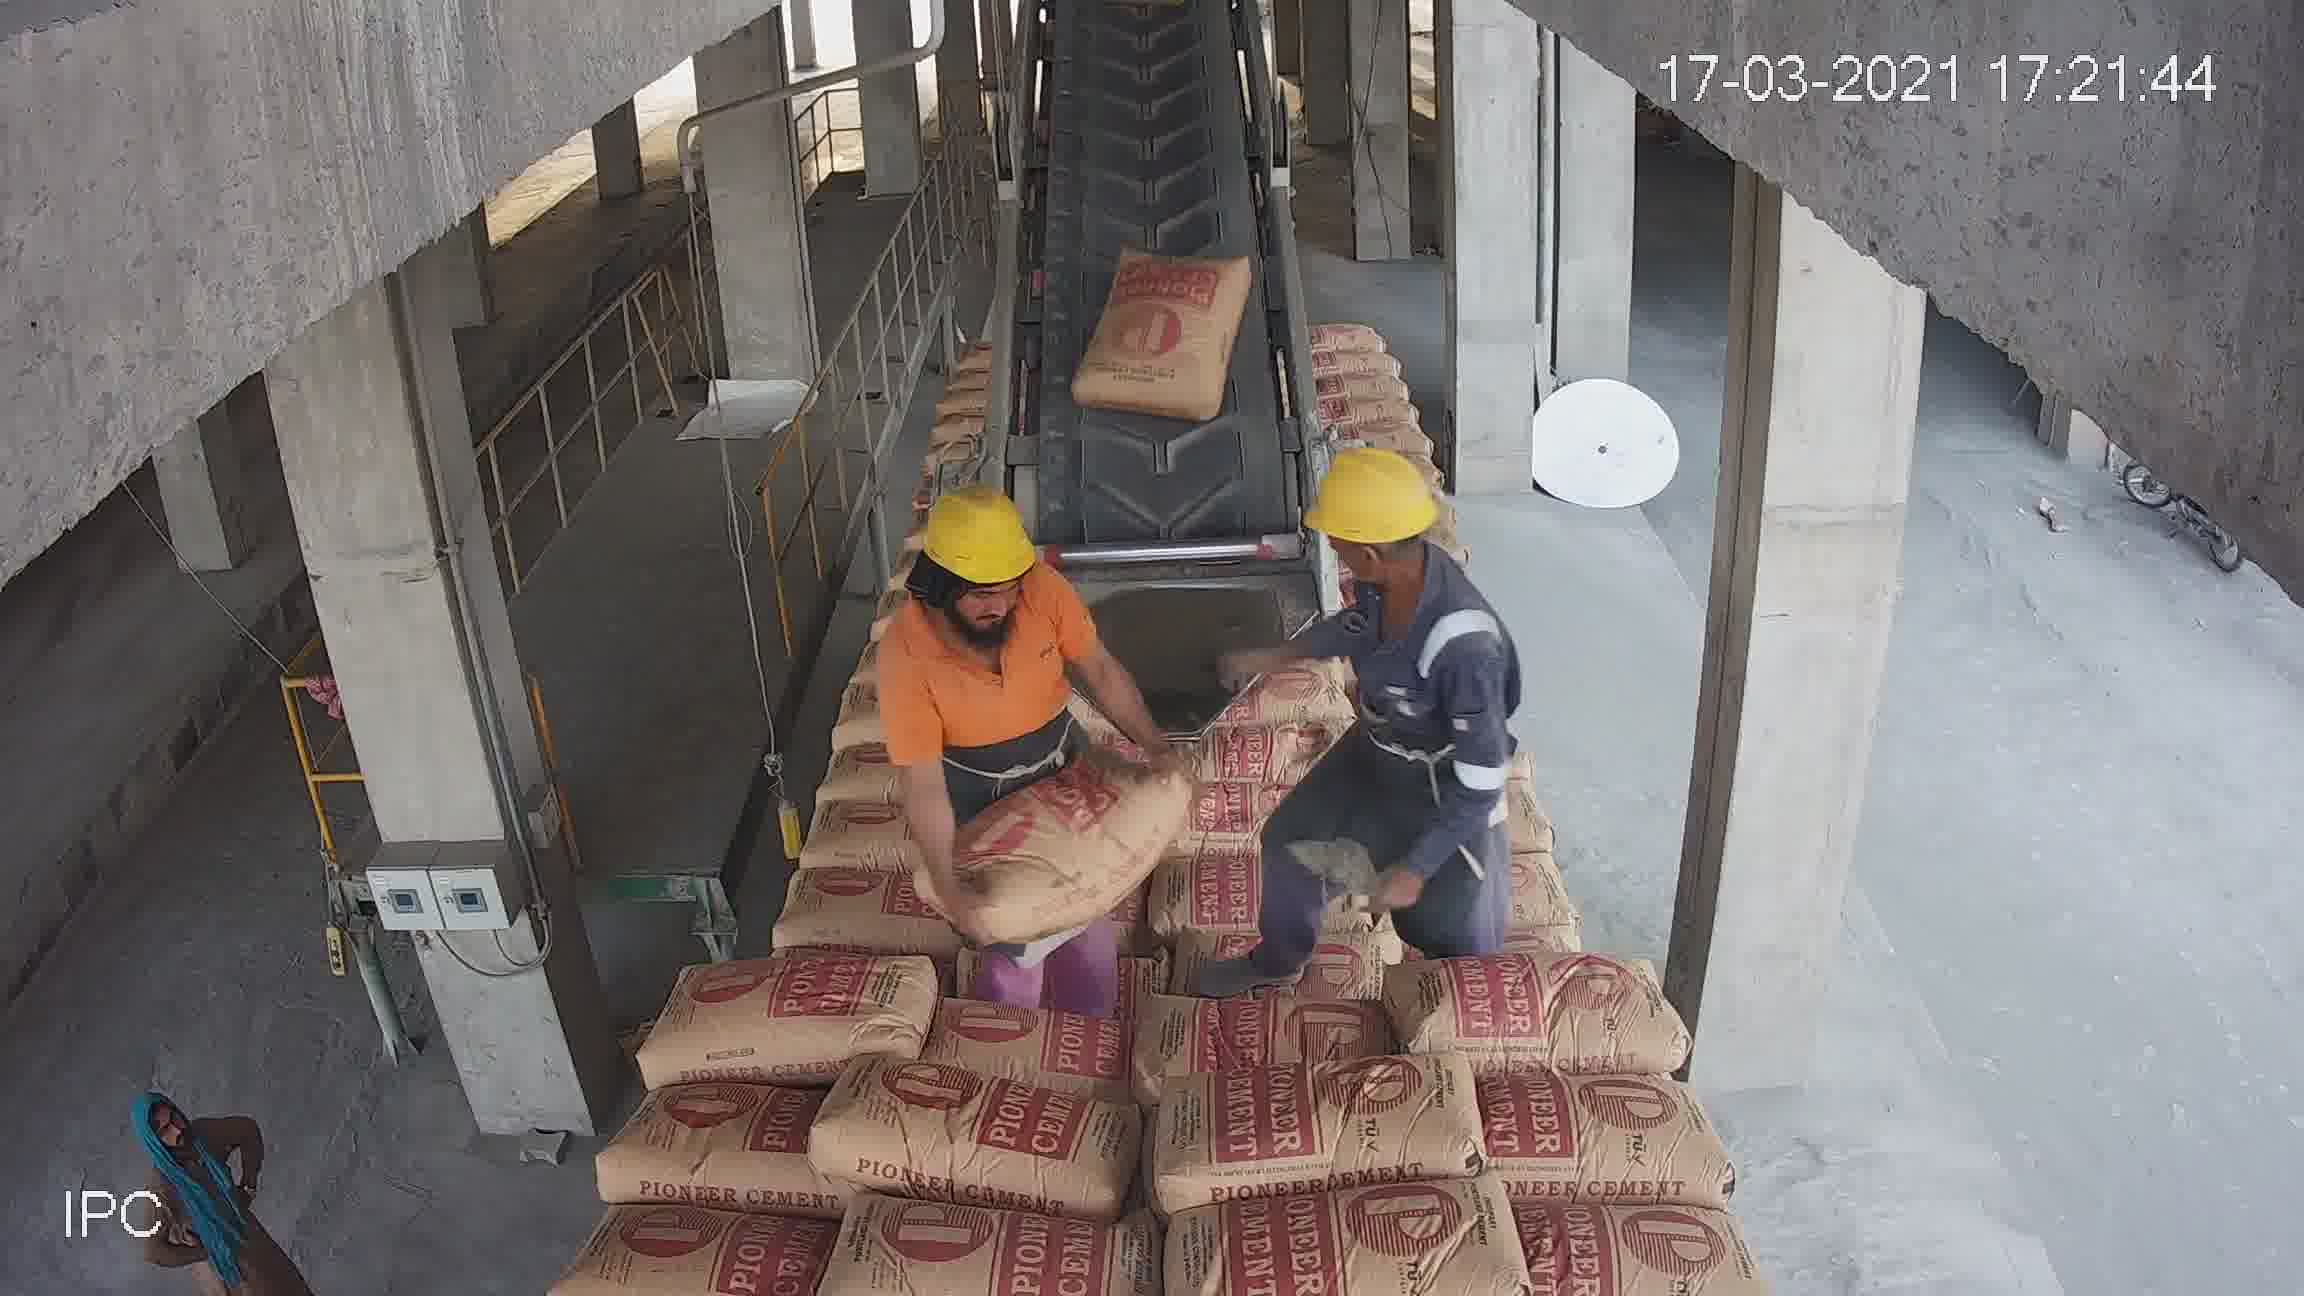bag_h: (1155, 1040, 1495, 1195), (1124, 711, 1416, 855), (1161, 1177, 1537, 1287), (1437, 949, 1703, 1103), (1131, 938, 1451, 1052), (832, 1059, 1157, 1169), (1486, 1174, 1775, 1296), (1484, 1065, 1741, 1201), (1147, 832, 1434, 953), (597, 1090, 831, 1230), (892, 934, 1143, 1051), (1416, 850, 1639, 970), (883, 842, 1157, 938), (646, 964, 888, 1071), (847, 1203, 1161, 1279), (883, 753, 1173, 836), (1374, 761, 1595, 861), (661, 878, 885, 964), (718, 783, 894, 881), (574, 1222, 796, 1287), (1014, 658, 1161, 736), (1179, 508, 1326, 574), (1176, 563, 1324, 628), (1016, 529, 1177, 587), (904, 495, 1041, 555), (1010, 578, 1176, 627), (1016, 728, 1201, 771), (1168, 623, 1313, 677), (896, 468, 1025, 514), (1166, 673, 1305, 714), (995, 628, 1192, 654)
belt: (1027, 27, 1288, 495)
